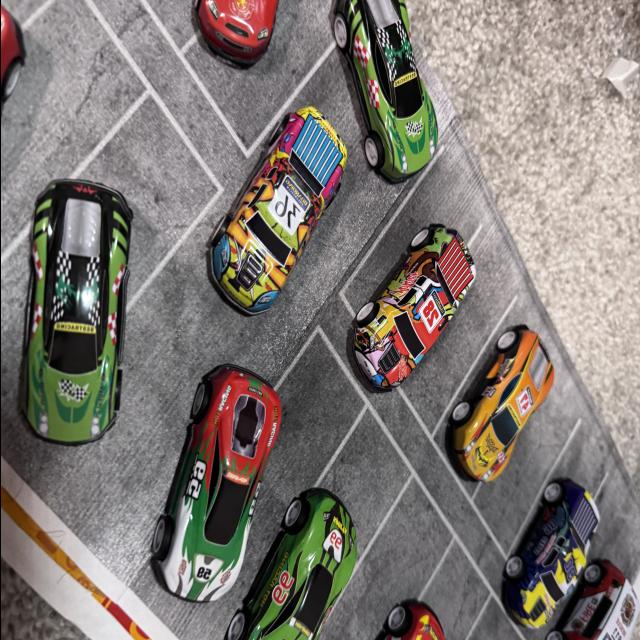Car: (417, 280, 602, 488), (0, 152, 120, 467), (134, 375, 258, 631), (212, 112, 344, 322), (355, 207, 469, 443), (338, 0, 452, 204), (242, 480, 360, 640), (489, 463, 602, 607), (204, 0, 310, 104), (324, 558, 458, 640), (520, 577, 640, 640), (1, 0, 24, 160)
